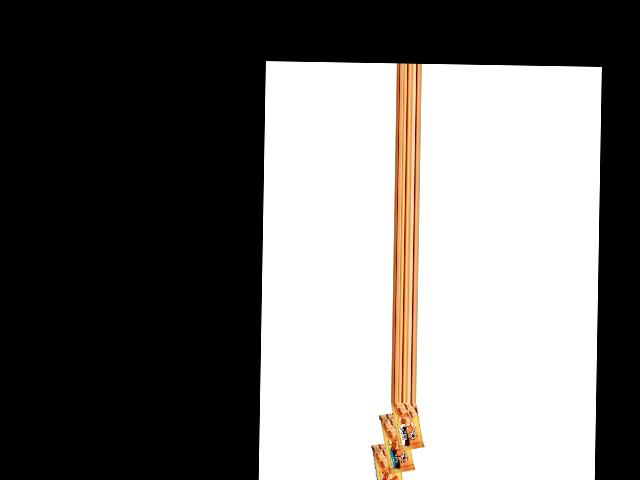chocolate: (373, 439, 406, 480)
